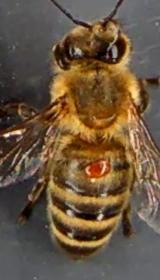varroa_mite: (80, 150, 118, 182)
